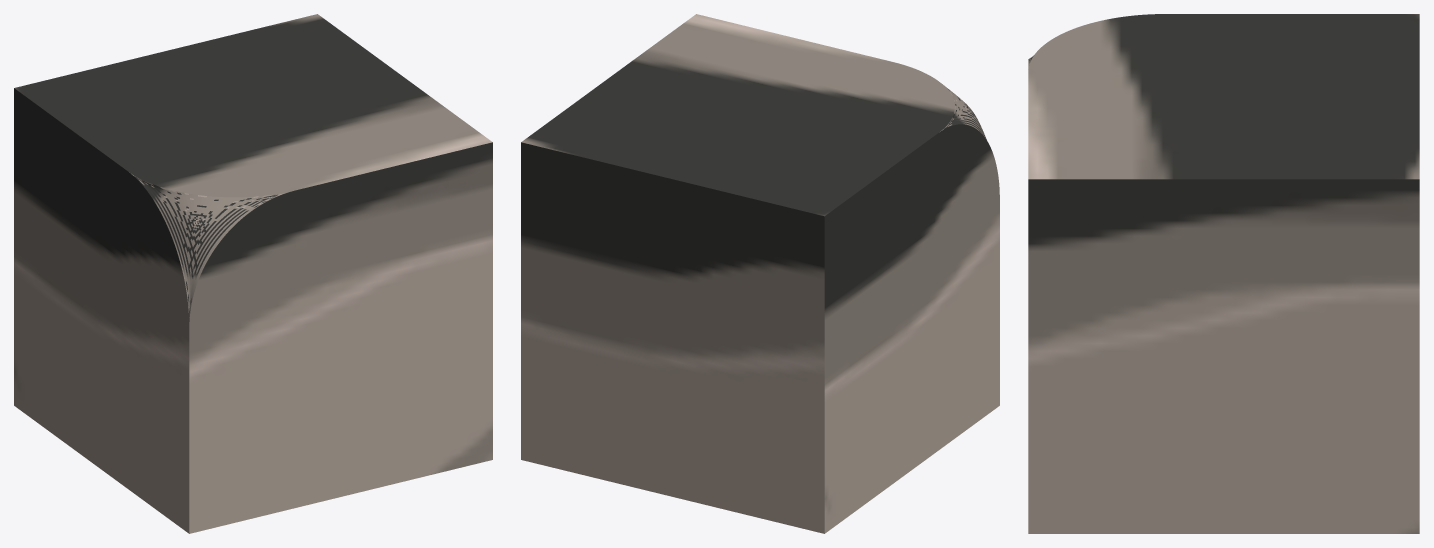
File: bordillo2.fbx
The picture shows the model from 3 angles, left to right: view 1: azimuth 30°, elevation 25°; view 2: azimuth 150°, elevation 25°; view 3: azimuth 270°, elevation 25°; orthographic projection. The views are drawn at different scales.
Parts seen in each view (by area): view 1: Cube.001; view 2: Cube.001; view 3: Cube.001.
Part boxes in pixels (x1=…): Cube.001: x1=14, y1=14, x2=492, y2=533; Cube.001: x1=521, y1=14, x2=999, y2=533; Cube.001: x1=1028, y1=14, x2=1419, y2=533.
Bounding box in the file's own units: 200 × 200 × 200.
1 material, 1 textured.
